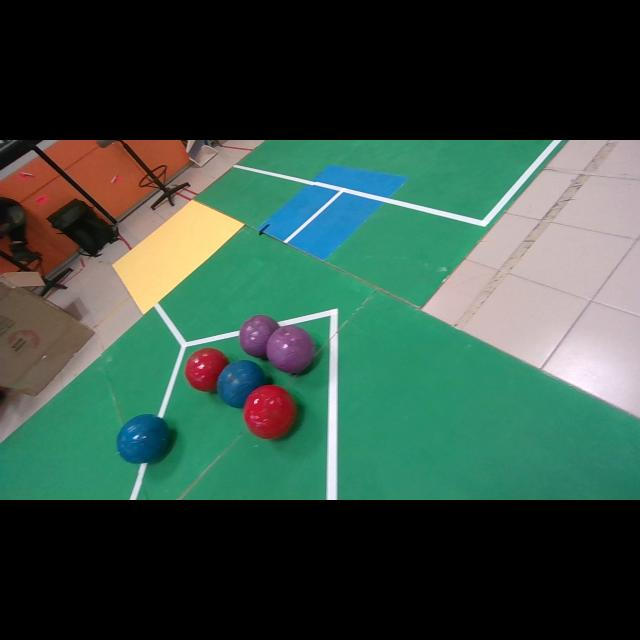B: (116, 414, 170, 464), (218, 360, 266, 408)
P: (266, 325, 315, 373), (239, 315, 280, 359)
R: (244, 385, 296, 439), (185, 348, 229, 391)
